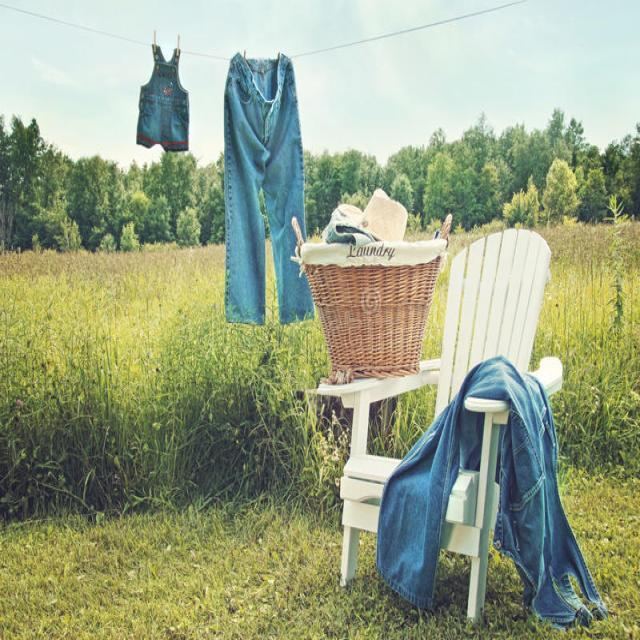clothes: (200, 76, 312, 344)
